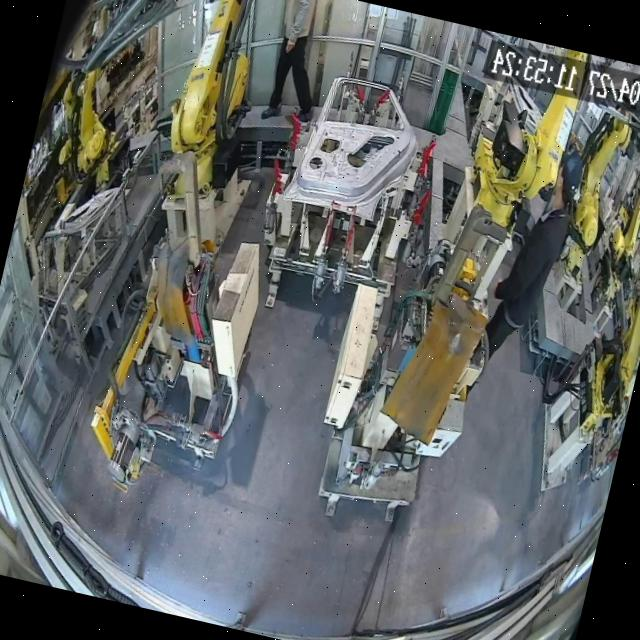Person: (467, 138, 588, 392), (257, 0, 340, 130)
